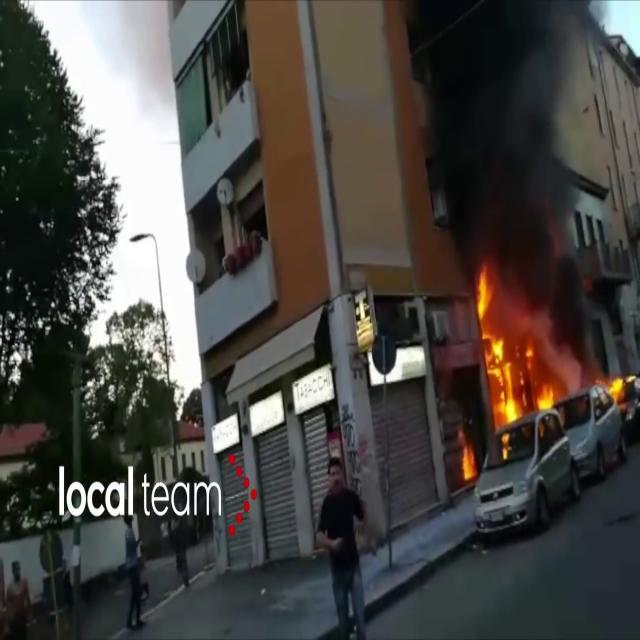Fire: (470, 266, 566, 450), (588, 366, 638, 406)
Smoke: (409, 0, 611, 316)
